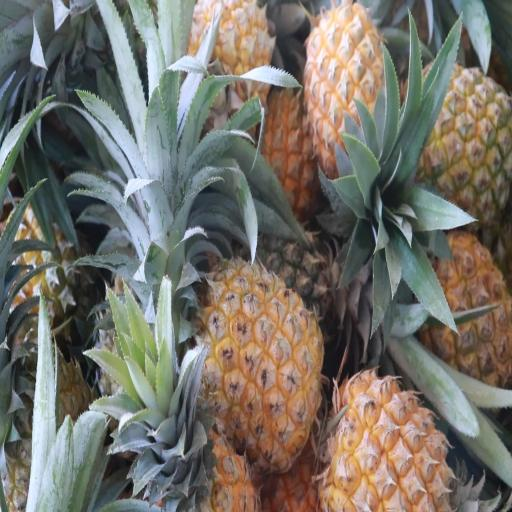Pineapple - v8 v1: (204, 255, 324, 470), (323, 370, 457, 512), (305, 5, 400, 175), (419, 68, 512, 227), (419, 234, 512, 388), (154, 387, 260, 512), (188, 0, 273, 113)
